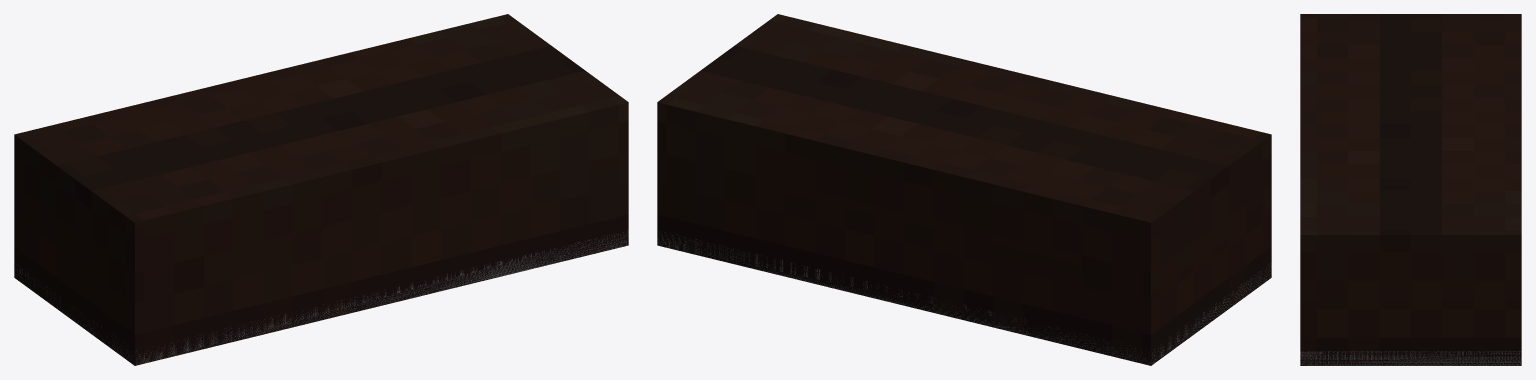
The model's file is prop_eraser-0.glb.
3 views of the same model, side by side, from view 1: azimuth 30°, elevation 25°; view 2: azimuth 150°, elevation 25°; view 3: azimuth 270°, elevation 25° (orthographic). The views are drawn at different scales.
Parts seen in each view (by area): view 1: prop_eraser-0; view 2: prop_eraser-0; view 3: prop_eraser-0.
Boxes of the visible parts, box(x1,y1,x2,y2) form: prop_eraser-0: box(14, 14, 628, 365); prop_eraser-0: box(657, 14, 1271, 365); prop_eraser-0: box(1300, 14, 1521, 365).
Bounding box in the file's own units: 0.13 × 0.036 × 0.055.
Materials: 2 (2 with a texture image).
